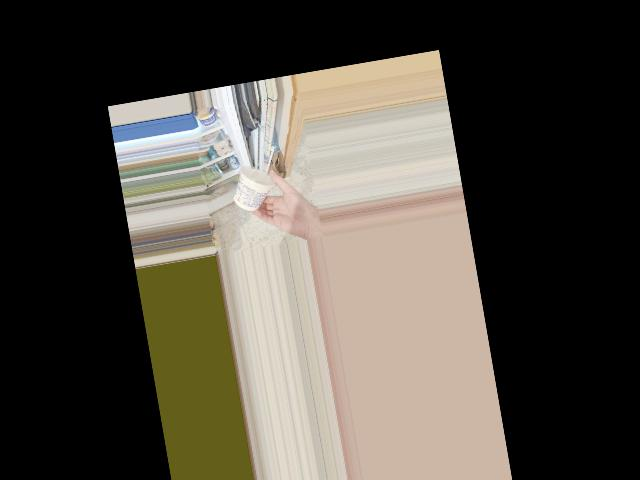cotage: (230, 162, 275, 212)
